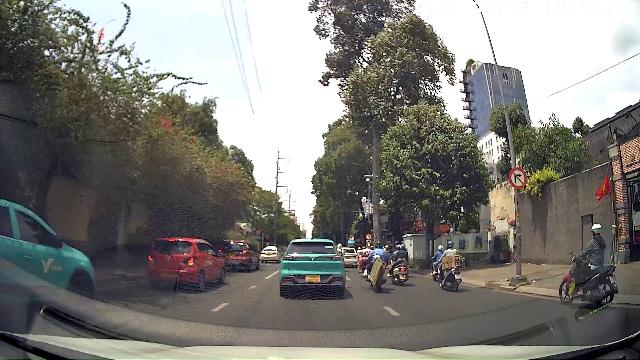123b-cam-re-phai: (509, 167, 526, 189)
